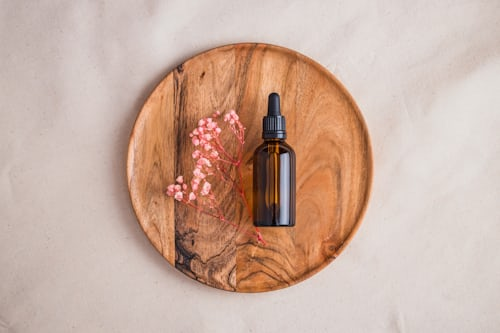Bottle: (246, 88, 304, 231)
